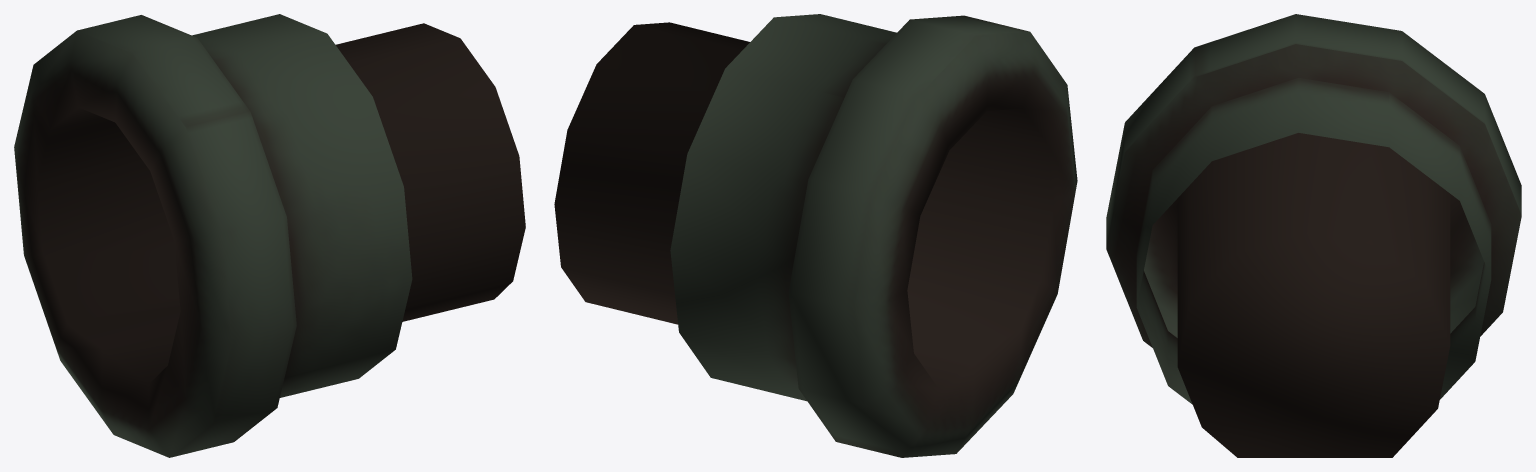
File: SC05_D_v04_saida.fbx
3 views of the same model, side by side, from view 1: azimuth 30°, elevation 25°; view 2: azimuth 150°, elevation 25°; view 3: azimuth 270°, elevation 25° (orthographic). The views are drawn at different scales.
Visible parts, largest first — view 1: Whiskey.005; view 2: Whiskey.005; view 3: Whiskey.005.
Boxes of the visible parts, x1=… form: Whiskey.005: x1=14, y1=14, x2=525, y2=457; Whiskey.005: x1=554, y1=14, x2=1077, y2=457; Whiskey.005: x1=1106, y1=14, x2=1521, y2=457.
Bounding box in the file's own units: 321 × 351 × 351.
